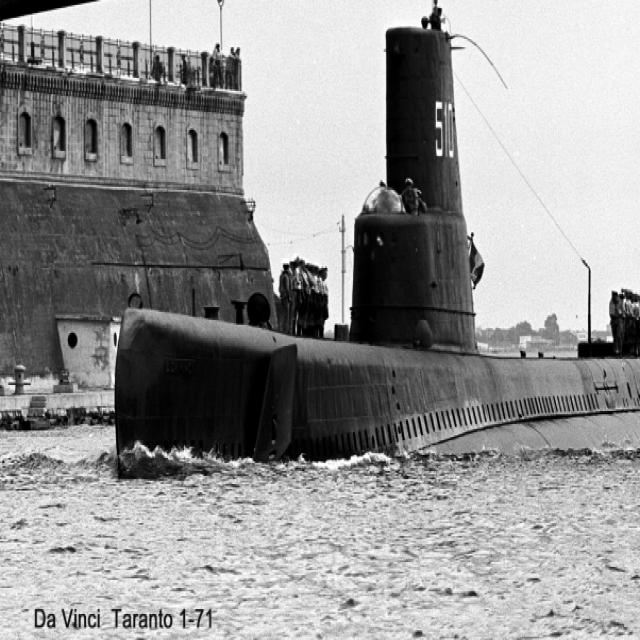submarine: (117, 16, 640, 462)
